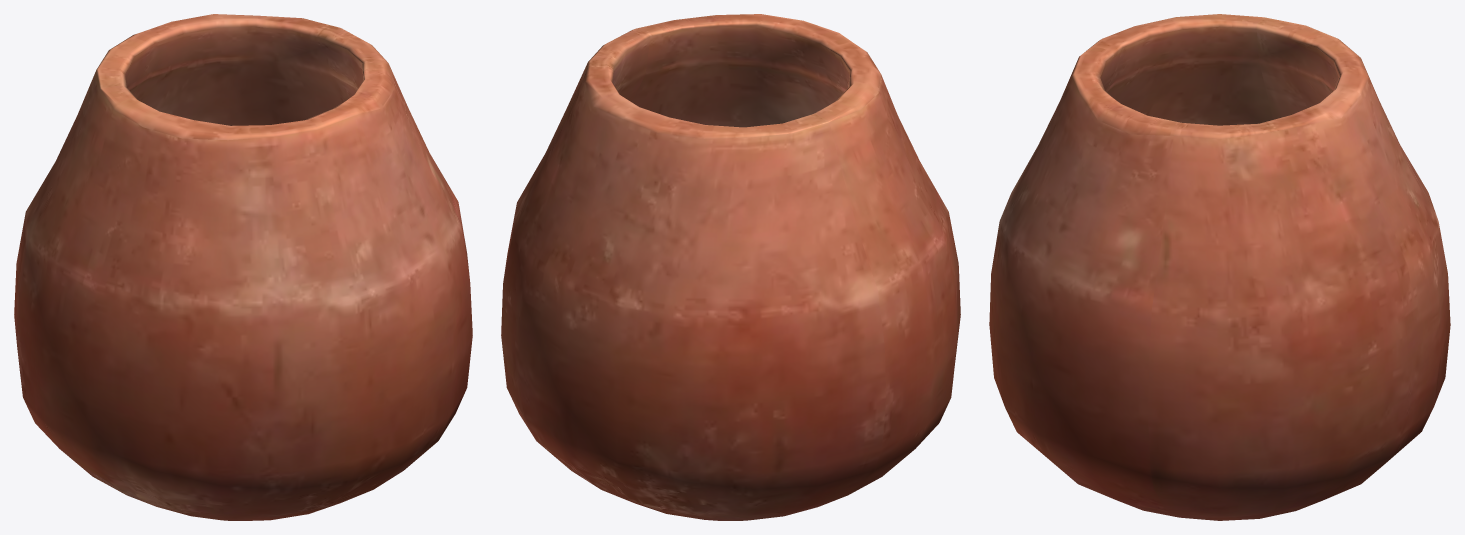
3 renders of one model, left to right at view 1: azimuth 30°, elevation 25°; view 2: azimuth 150°, elevation 25°; view 3: azimuth 270°, elevation 25°, orthographic.
Visible parts, largest first — view 1: SM_Clay_Pot_01_LOD0; view 2: SM_Clay_Pot_01_LOD0; view 3: SM_Clay_Pot_01_LOD0.
Boxes of the visible parts, bbox=[...] form: SM_Clay_Pot_01_LOD0: bbox=[14, 14, 472, 520]; SM_Clay_Pot_01_LOD0: bbox=[501, 14, 960, 520]; SM_Clay_Pot_01_LOD0: bbox=[989, 14, 1450, 520].
Size of the model in its own units: 0.2836 by 0.2858 by 0.2826.
1 material, 1 textured.
